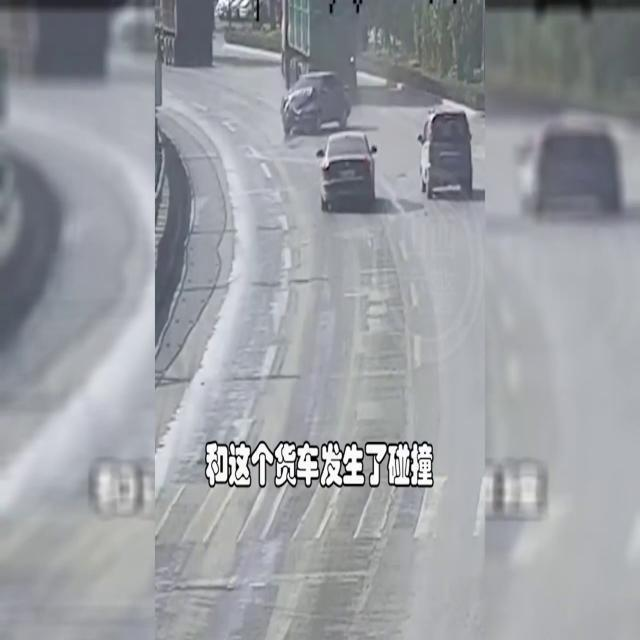accident: (282, 68, 352, 140)
